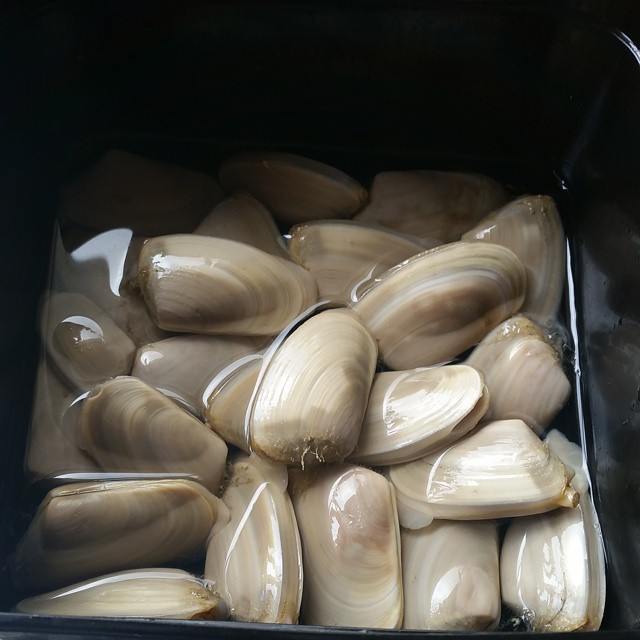tuatua: (356, 239, 523, 364), (250, 305, 375, 465), (139, 232, 321, 338), (8, 477, 220, 565), (388, 420, 577, 516), (297, 460, 405, 625), (80, 375, 230, 487), (209, 460, 306, 622), (360, 366, 490, 460), (471, 314, 569, 432), (470, 194, 565, 314), (13, 564, 228, 617), (409, 515, 501, 630), (228, 145, 368, 219), (502, 515, 590, 624), (288, 222, 419, 295), (374, 170, 501, 236), (48, 294, 133, 371), (136, 336, 229, 400)
